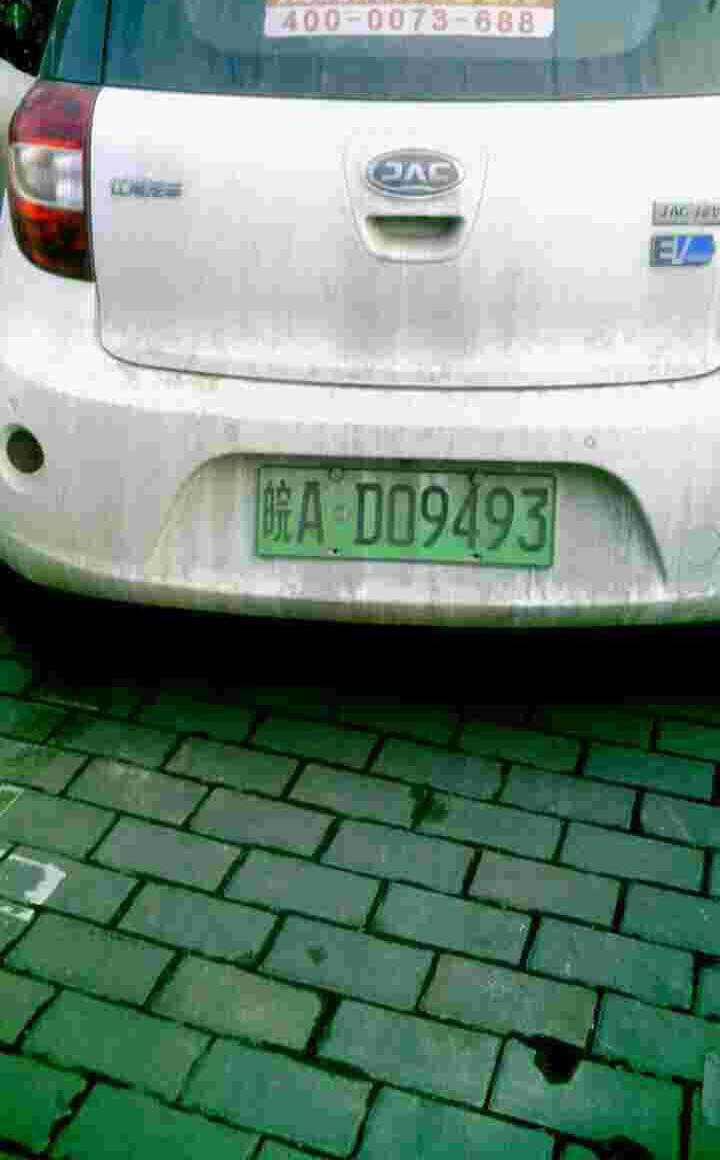car_id: (257, 465, 554, 563)
